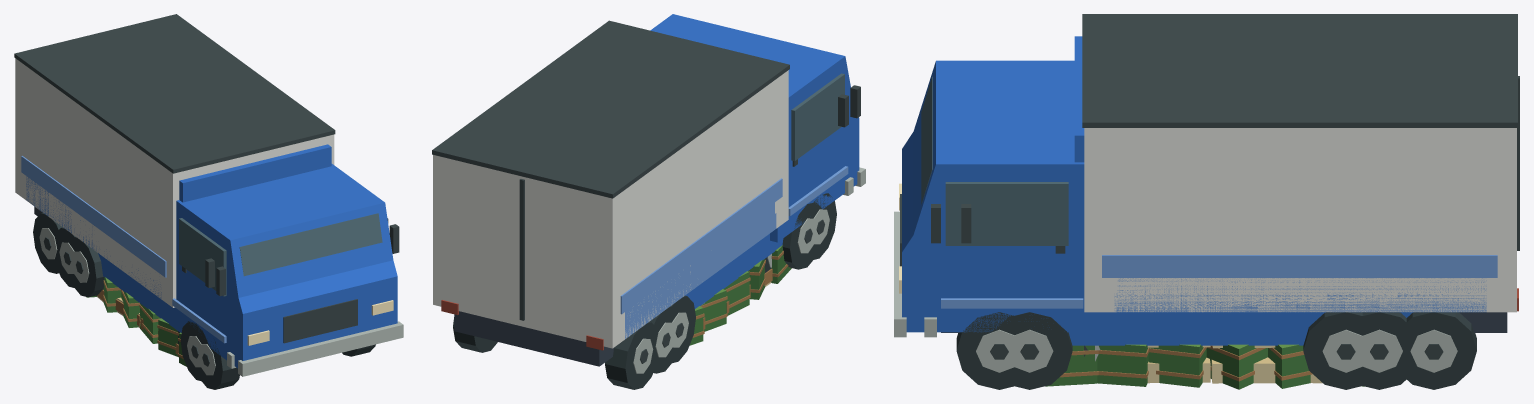
The model's file is riverside-vehicles.glb.
3 renders of one model, left to right at view 1: azimuth 30°, elevation 25°; view 2: azimuth 150°, elevation 25°; view 3: azimuth 270°, elevation 25°, orthographic. The views are drawn at different scales.
Visible parts, largest first — view 1: VEH-truck.box-body, VEH-truck.flatbed-body, CARGO-cargo-basket-flatbed, VEH-truck.van-body, road-wheel-ML.truck.box-mesh, road-wheel-RL.truck.box-mesh, road-wheel-FL.truck.box-mesh, road-wheel-FL.truck.flatbed-mesh, road-wheel-RL.truck.flatbed-mesh; view 2: VEH-truck.box-body, VEH-truck.flatbed-body, CARGO-cargo-basket-flatbed, road-wheel-RL.truck.box-mesh, VEH-truck.van-body, road-wheel-FL.truck.flatbed-mesh, road-wheel-RL.truck.flatbed-mesh, road-wheel-ML.truck.box-mesh, road-wheel-FL.truck.box-mesh, road-wheel-RR.truck.box-mesh; view 3: VEH-truck.box-body, VEH-truck.flatbed-body, CARGO-cargo-basket-flatbed, VEH-truck.van-body, road-wheel-RR.truck.box-mesh, road-wheel-FR.truck.flatbed-mesh, road-wheel-RR.truck.flatbed-mesh, road-wheel-MR.truck.box-mesh, road-wheel-FR.truck.box-mesh, CARGO-cargo-sacks-flatbed.
Boxes of the visible parts, x1,y1,x2,y2 form: VEH-truck.box-body: [14, 14, 403, 376]; VEH-truck.flatbed-body: [26, 164, 388, 368]; CARGO-cargo-basket-flatbed: [86, 277, 186, 366]; VEH-truck.van-body: [98, 253, 186, 332]; road-wheel-ML.truck.box-mesh: [70, 237, 104, 297]; road-wheel-RL.truck.box-mesh: [33, 213, 62, 273]; road-wheel-FL.truck.box-mesh: [197, 330, 239, 389]; road-wheel-FL.truck.flatbed-mesh: [180, 321, 209, 381]; road-wheel-RL.truck.flatbed-mesh: [54, 227, 81, 288]; VEH-truck.box-body: [432, 14, 865, 366]; VEH-truck.flatbed-body: [611, 23, 853, 357]; CARGO-cargo-basket-flatbed: [689, 245, 791, 345]; road-wheel-RL.truck.box-mesh: [605, 322, 658, 389]; VEH-truck.van-body: [685, 159, 797, 308]; road-wheel-FL.truck.flatbed-mesh: [782, 202, 821, 269]; road-wheel-RL.truck.flatbed-mesh: [649, 306, 679, 373]; road-wheel-ML.truck.box-mesh: [666, 295, 695, 363]; road-wheel-FL.truck.box-mesh: [804, 193, 836, 259]; road-wheel-RR.truck.box-mesh: [453, 317, 497, 352]; VEH-truck.box-body: [894, 14, 1519, 337]; VEH-truck.flatbed-body: [924, 60, 1486, 337]; CARGO-cargo-basket-flatbed: [1045, 344, 1364, 389]; VEH-truck.van-body: [1055, 246, 1413, 345]; road-wheel-RR.truck.box-mesh: [1396, 312, 1476, 389]; road-wheel-FR.truck.flatbed-mesh: [992, 312, 1072, 389]; road-wheel-RR.truck.flatbed-mesh: [1343, 312, 1417, 389]; road-wheel-MR.truck.box-mesh: [1303, 312, 1379, 389]; road-wheel-FR.truck.box-mesh: [956, 312, 1035, 389]; CARGO-cargo-sacks-flatbed: [1147, 345, 1322, 383].
Size of the model in its own units: 2.91 by 3.05 by 6.41.
